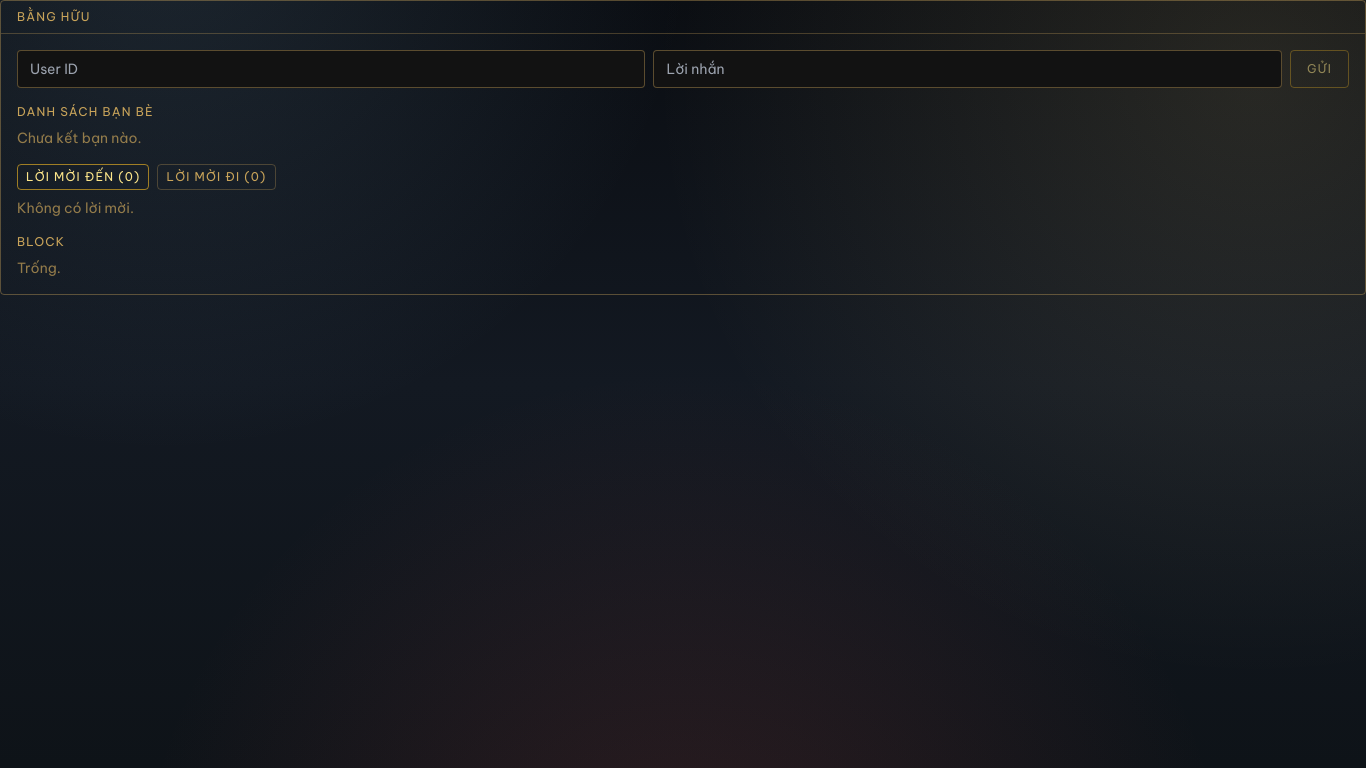
Test case: SocialPanel — render & flows › send friend request thành công reset form + refresh outgoing
In the field with test id "social-send-userId": (331, 69) [17,50,646,88], type "peer-x"
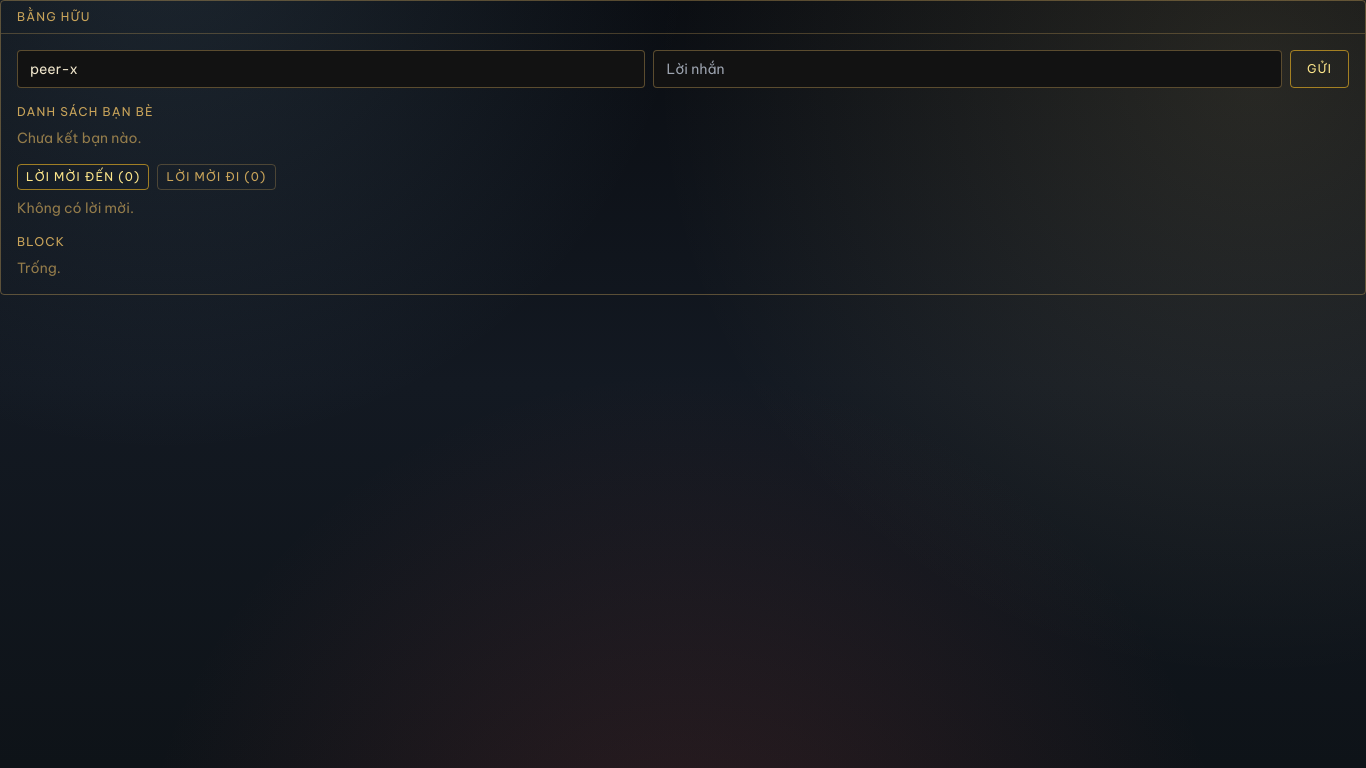
In the field with test id "social-send-message": (968, 69) [654,50,1282,88], type "hi"
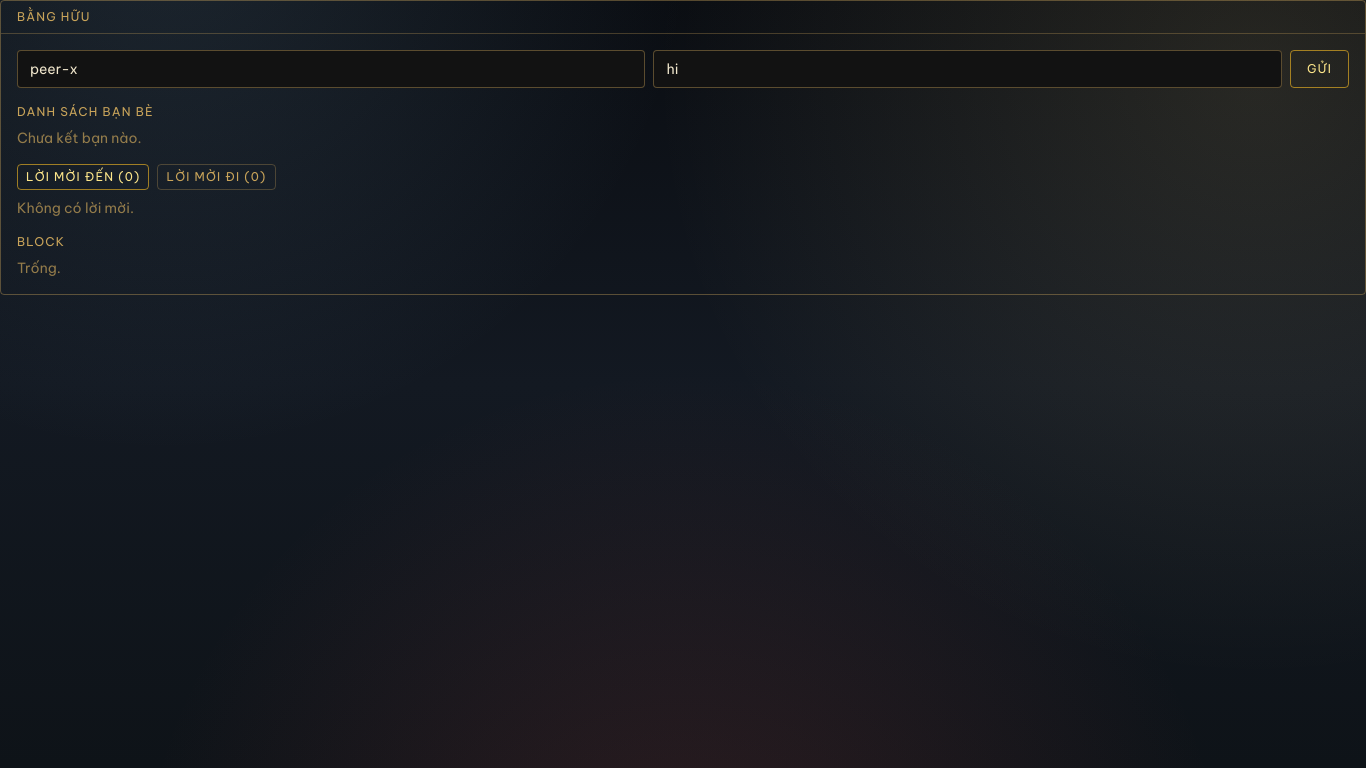
Submit the form with test id "social-send-form", box [17,50,1349,88]
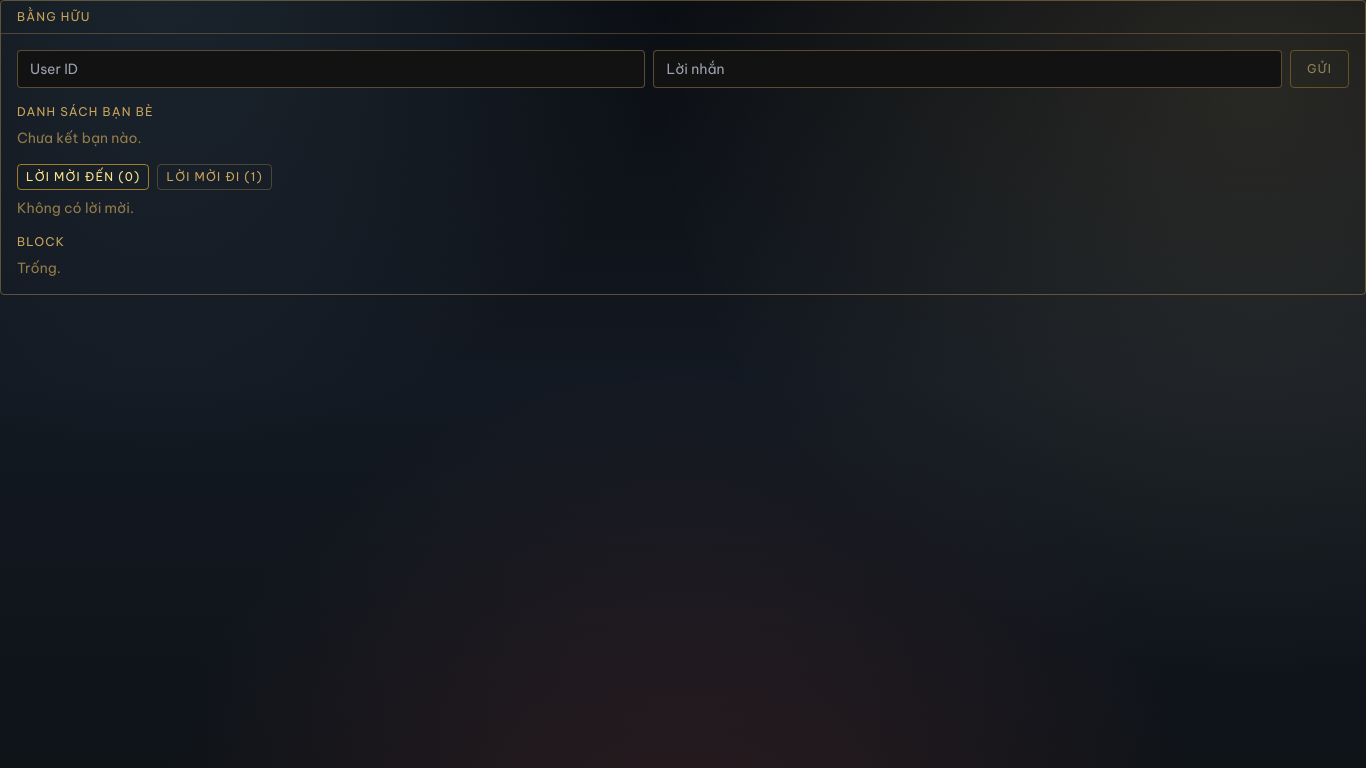
Expected: the field with test id "social-send-userId" is empty, [17,50,646,88]
Click the button with test id "social-tab-outgoing": (215, 177) [158,164,272,190]
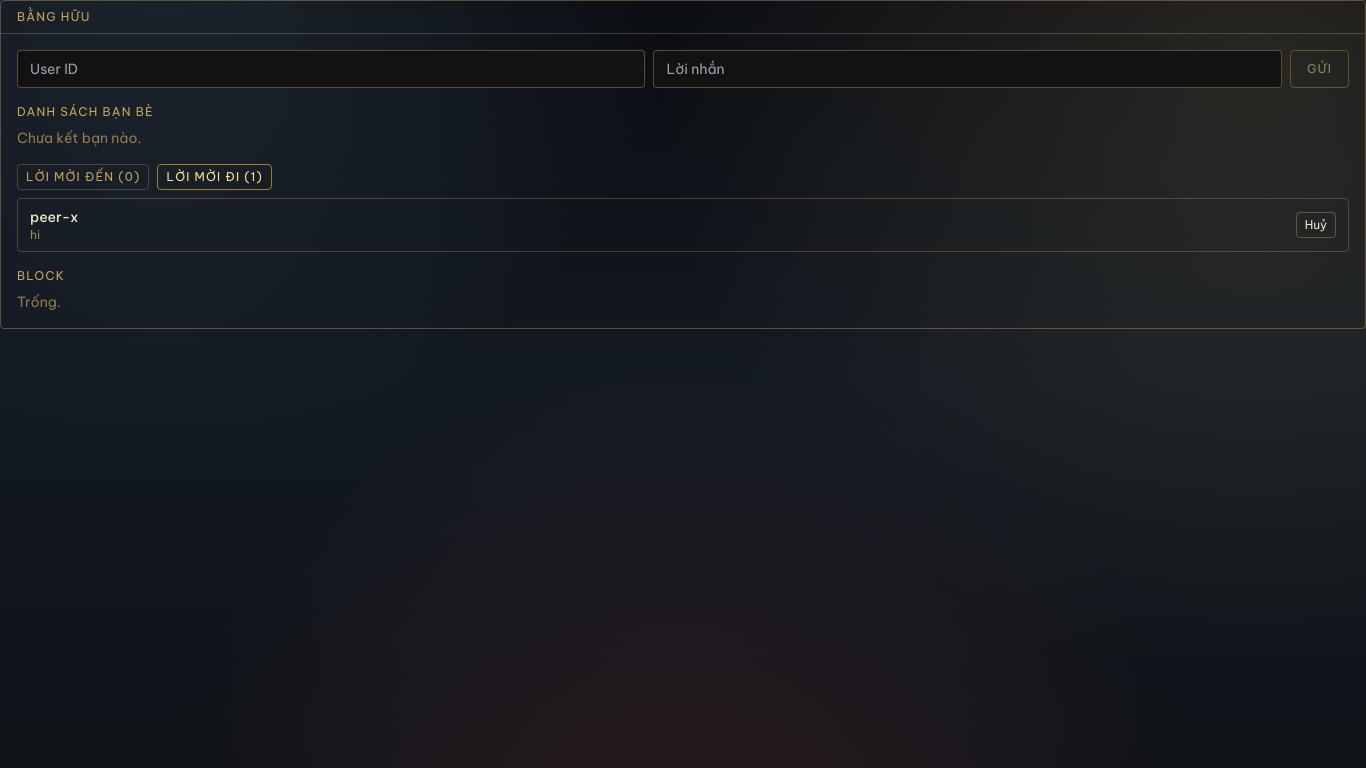
Expected: the list item with test id "social-outgoing-row" is shown, [17,198,1349,252]
